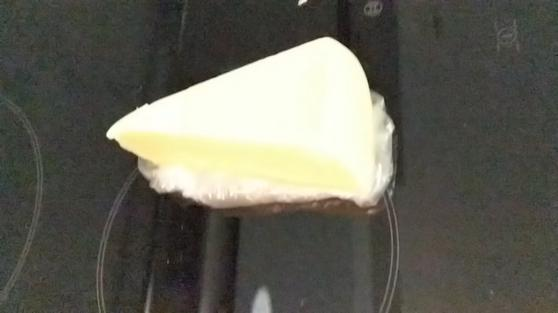cheese: (109, 34, 375, 215)
